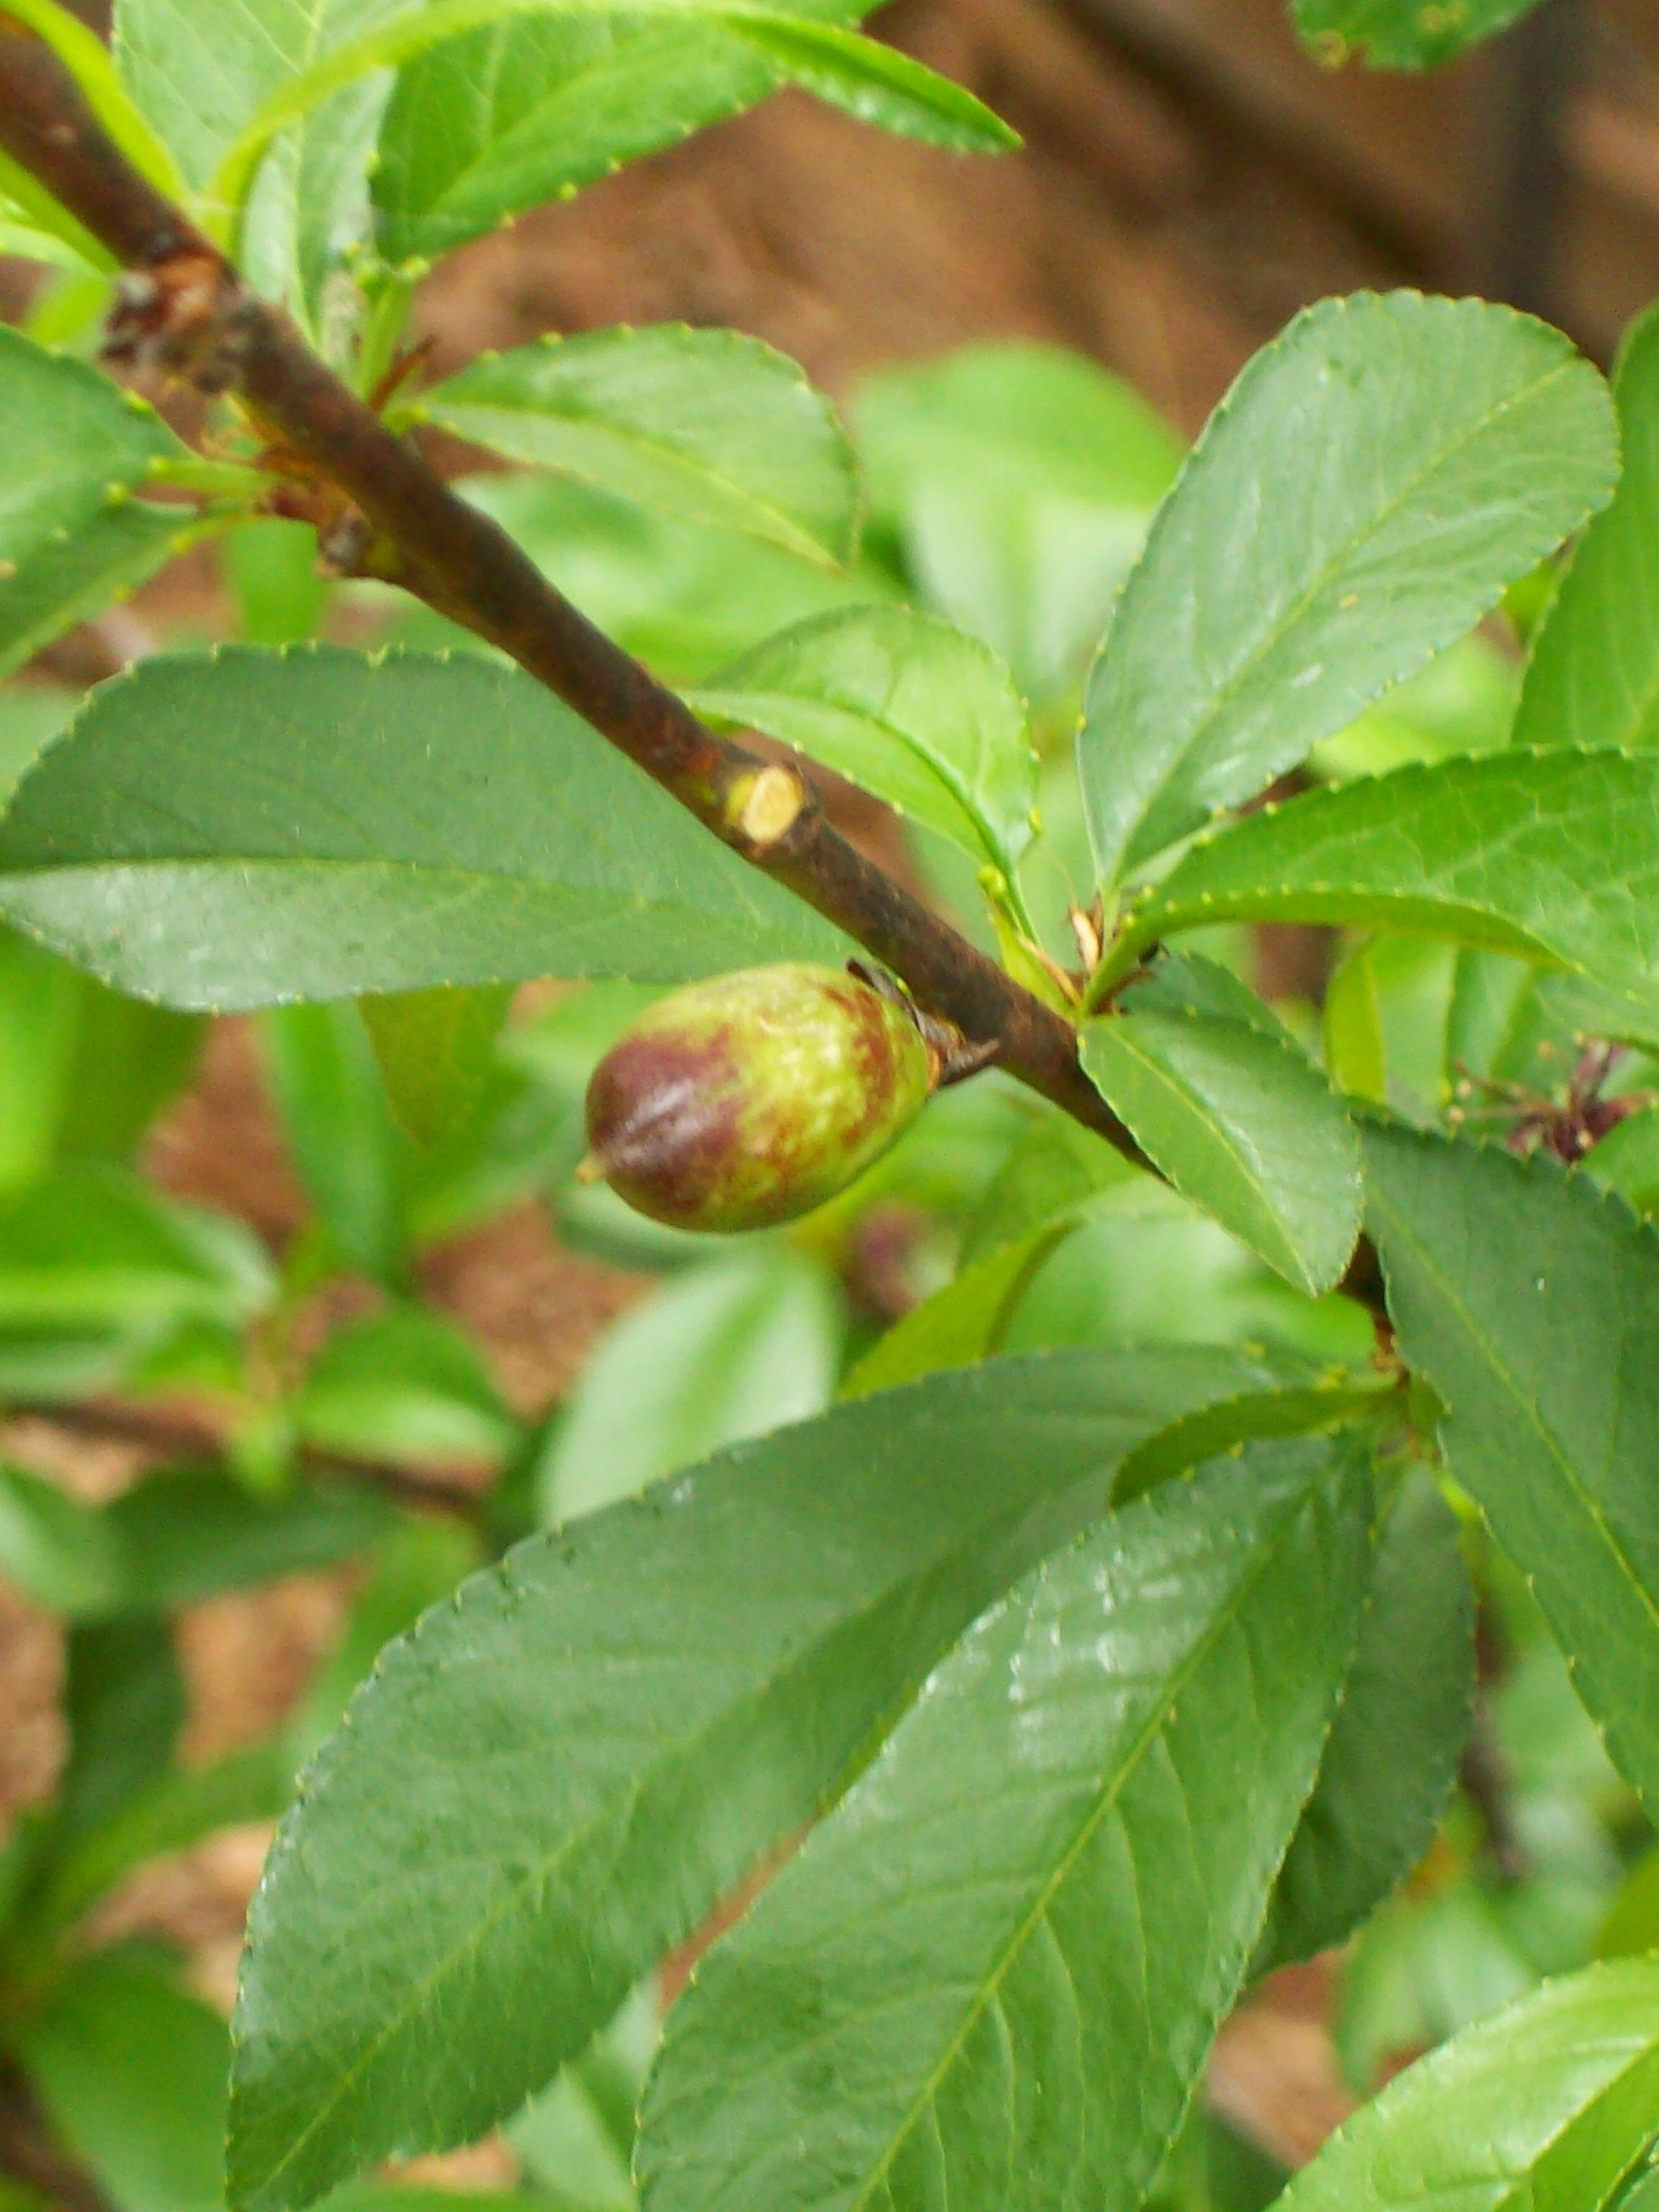Peach leaf: (204, 1313, 1317, 2212), (634, 1421, 1382, 2212), (1049, 263, 1643, 937), (24, 653, 1018, 1052), (1086, 751, 1659, 984), (1065, 989, 1345, 1312)
